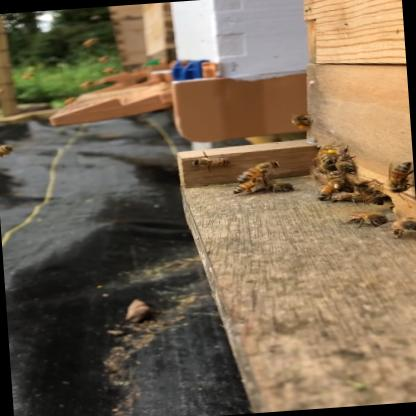bee: (305, 155, 416, 210), (301, 134, 390, 176), (217, 153, 289, 204), (335, 200, 416, 240), (182, 148, 246, 175), (290, 110, 324, 138)
